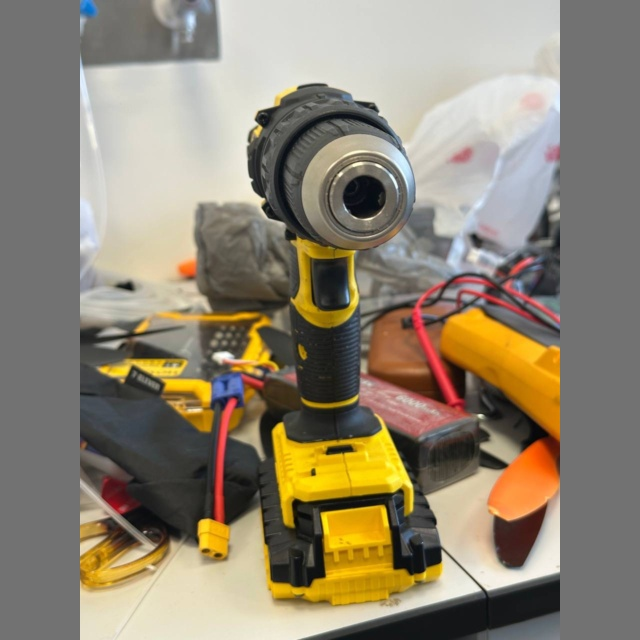drill: (248, 84, 442, 604)
